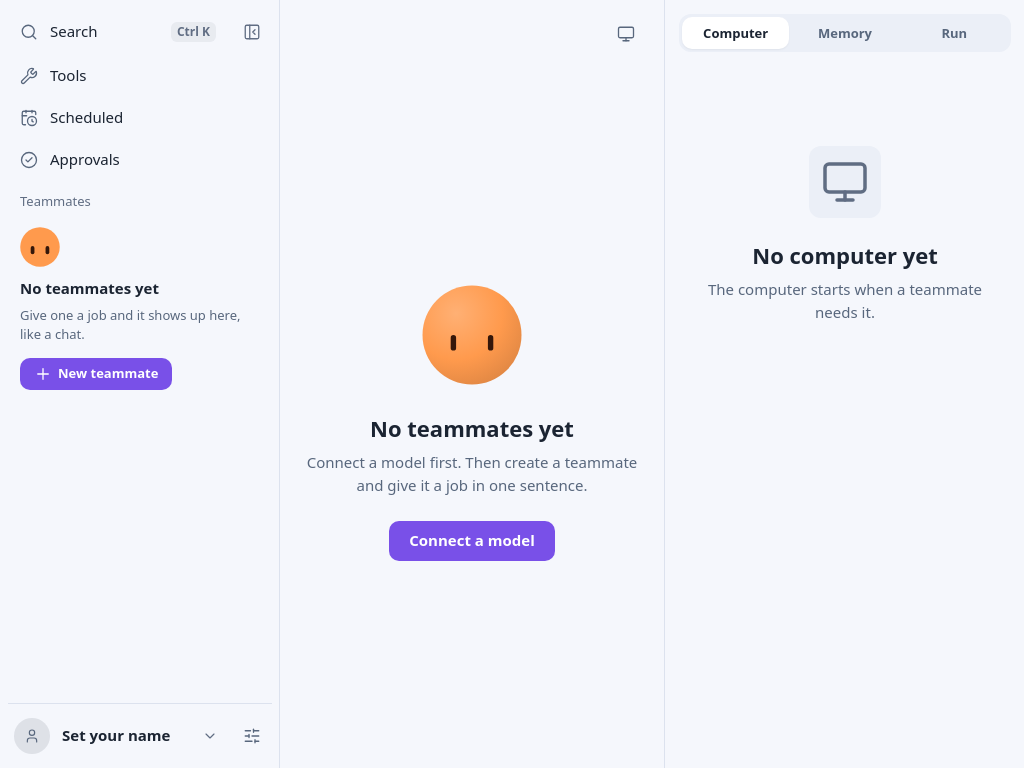
Test: teammates view › collapses and restores the context panel on wide screens
The image size is (1024, 768).
Expected: the element named "Context" is shown, [664,0,1023,767]
Click the button named "Hide computer panel". click: [626, 34]
box: [608,16,644,52]
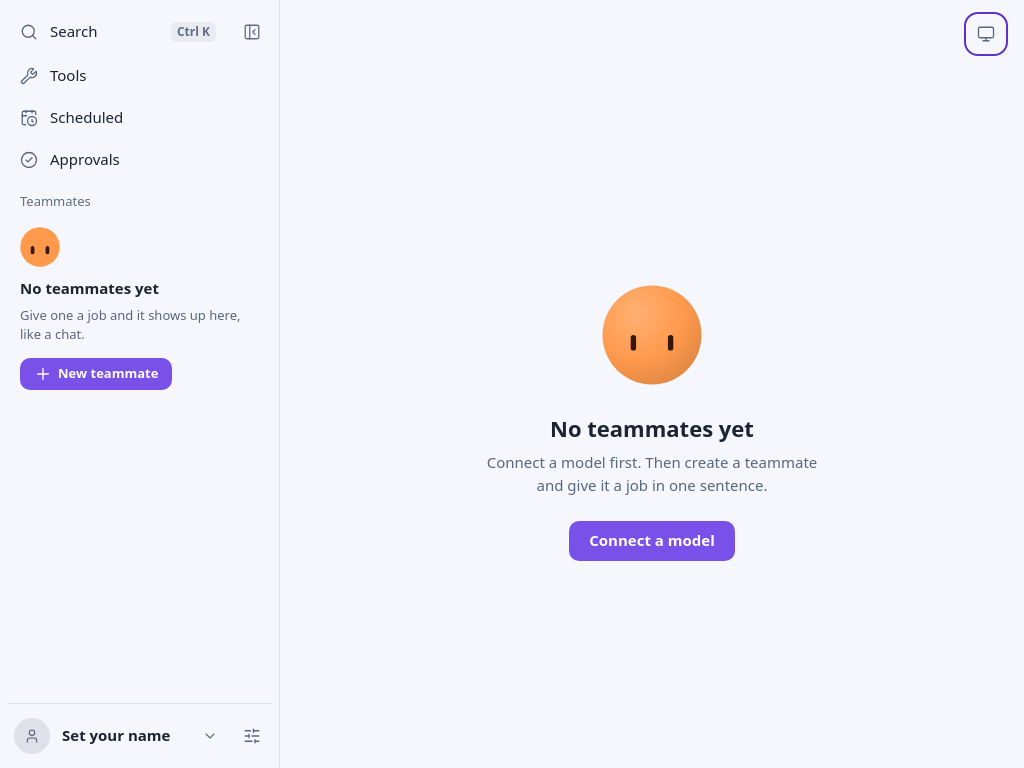
Now the element "Context" is gone
Click the button named "Show computer panel". click: [986, 34]
box: [968,16,1004,52]
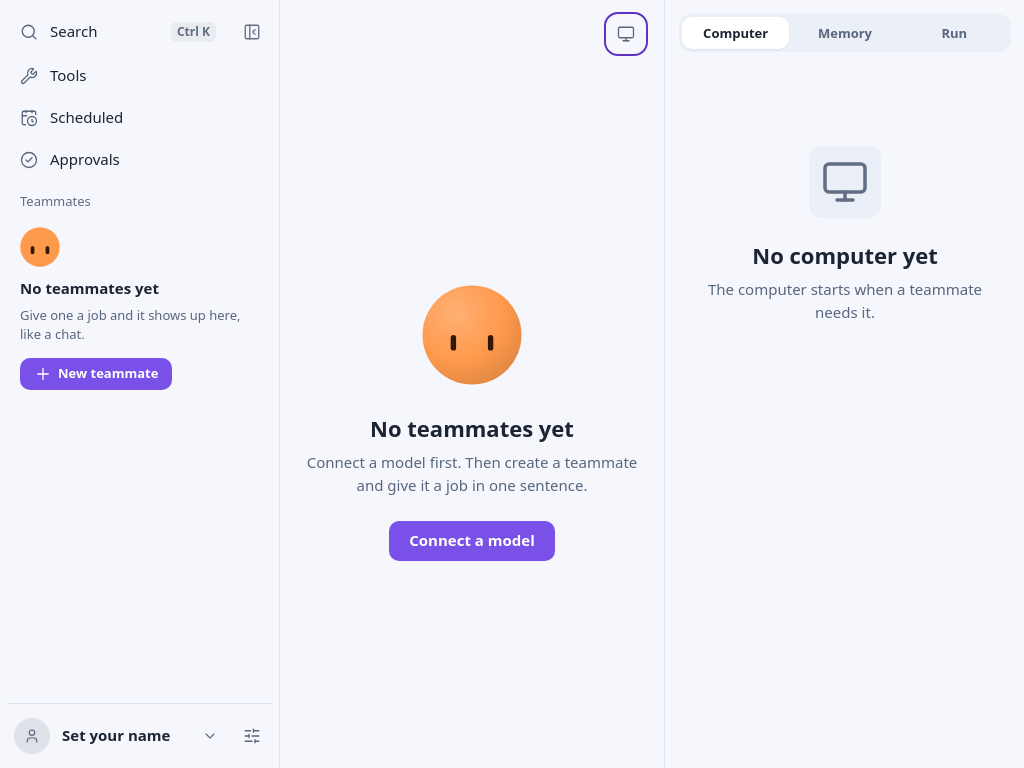
Now the element named "Context" is shown, box [664,0,1023,767]
